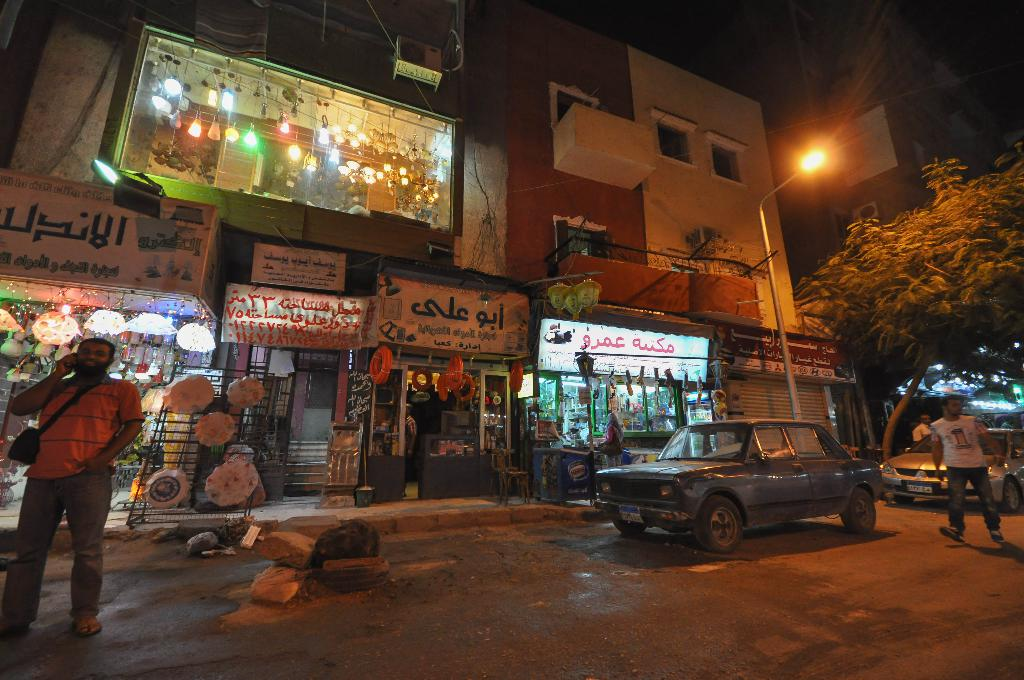Car: (596, 420, 883, 555)
